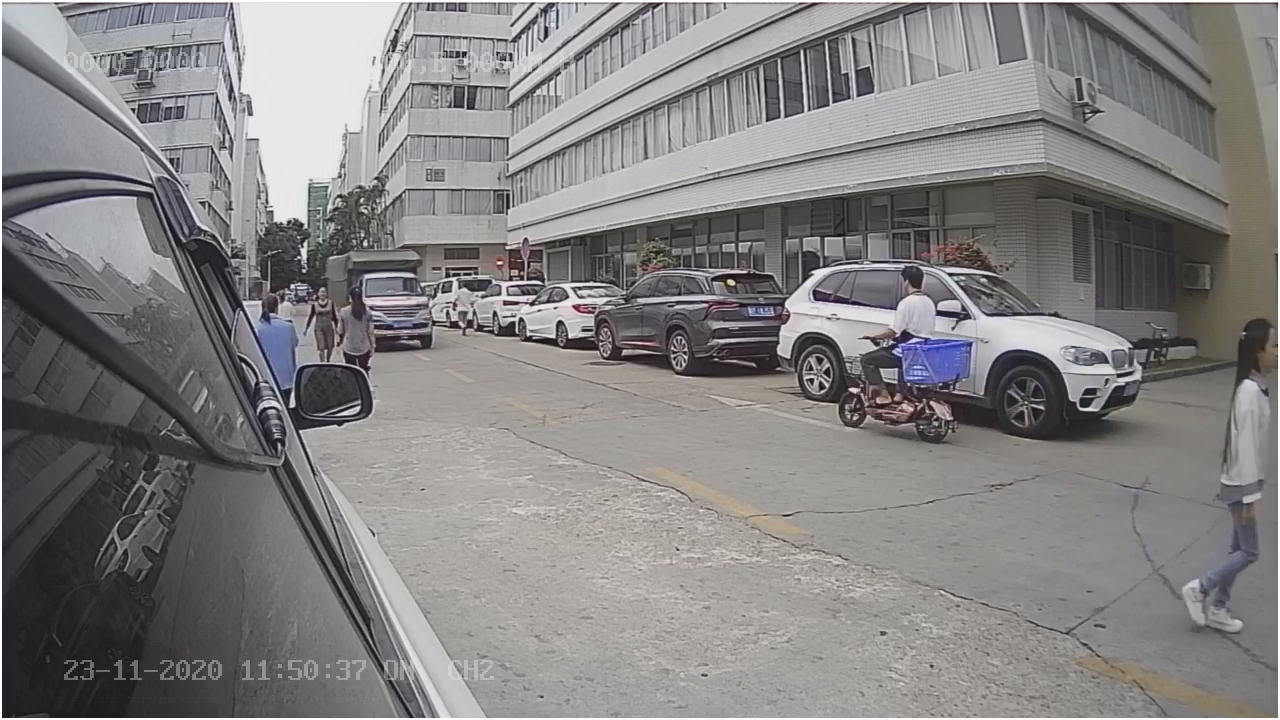person: (1174, 305, 1273, 635), (858, 251, 944, 340)
